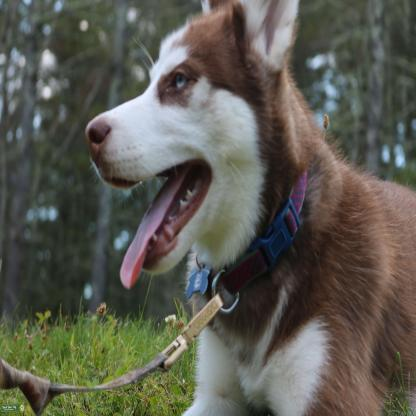husky: (84, 8, 416, 416)
